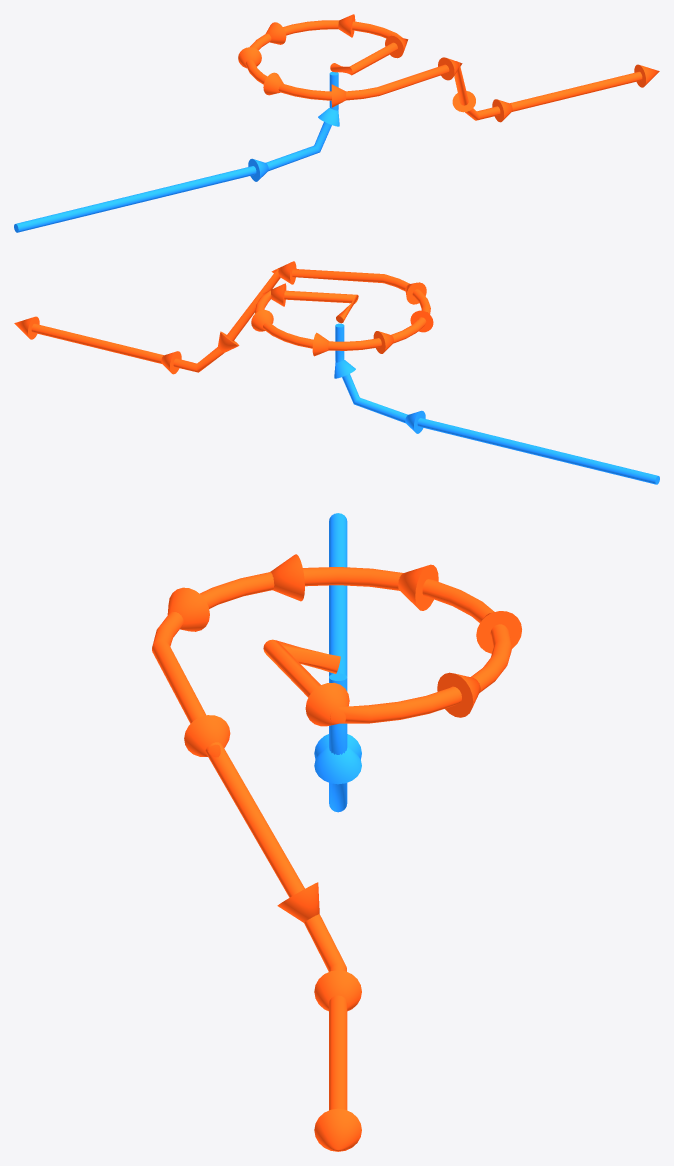
File: vertical_inline_pump_flow.glb
The picture shows the model from 3 angles, top to bottom: view 1: azimuth 30°, elevation 25°; view 2: azimuth 150°, elevation 25°; view 3: azimuth 270°, elevation 25°; orthographic projection. The views are drawn at different scales.
Visible parts, largest first — view 1: flow_discharge, flow_suction; view 2: flow_discharge, flow_suction; view 3: flow_discharge, flow_suction.
Boxes of the visible parts, x1,y1,x2,y2 form: flow_discharge: (238, 14, 659, 122); flow_suction: (14, 72, 339, 232); flow_discharge: (14, 261, 433, 374); flow_suction: (334, 323, 659, 484); flow_discharge: (152, 554, 521, 1151); flow_suction: (314, 513, 361, 812).
Size of the model in its own units: 1.13 by 0.1907 by 0.2826.
